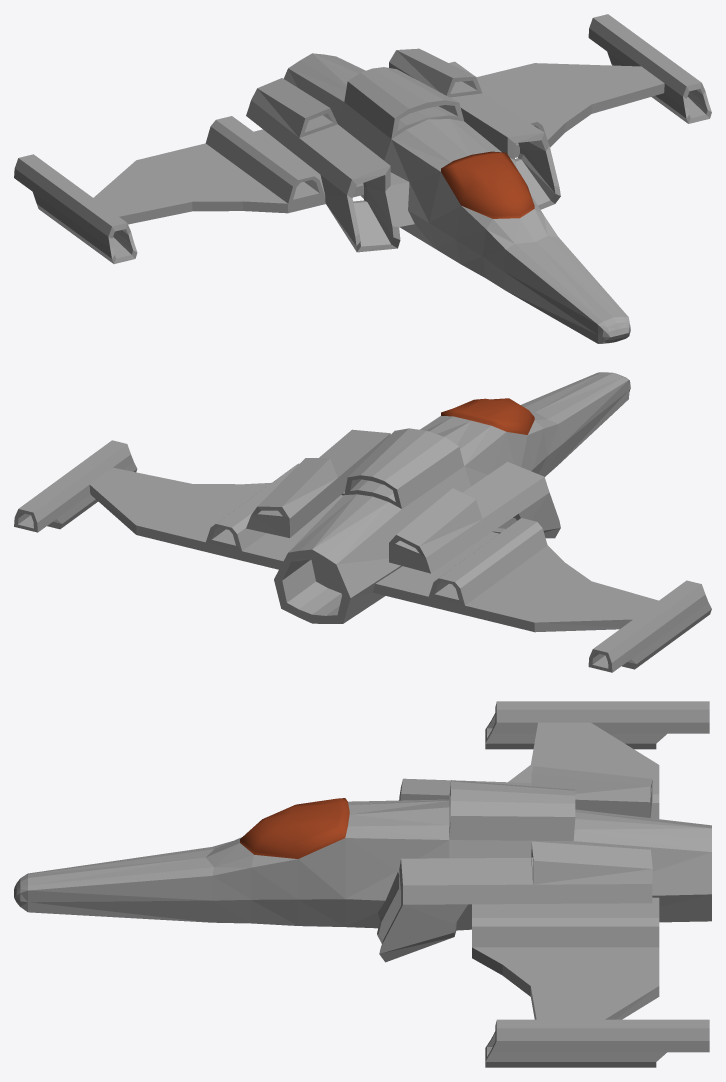
The model's file is Spaceship1.obj.
The picture shows the model from 3 angles, top to bottom: view 1: azimuth 30°, elevation 25°; view 2: azimuth 150°, elevation 25°; view 3: azimuth 270°, elevation 25°; orthographic projection. The views are drawn at different scales.
Visible parts, largest first — view 1: Spaceship3_Cube; view 2: Spaceship3_Cube; view 3: Spaceship3_Cube.
Part boxes in pixels (bbox=[...]): Spaceship3_Cube: bbox=[14, 14, 711, 343]; Spaceship3_Cube: bbox=[14, 372, 711, 672]; Spaceship3_Cube: bbox=[14, 701, 711, 1067].
Bounding box in the file's own units: 10.38 × 1.86 × 9.21.
